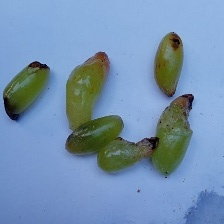grapes: (11, 23, 206, 204)
